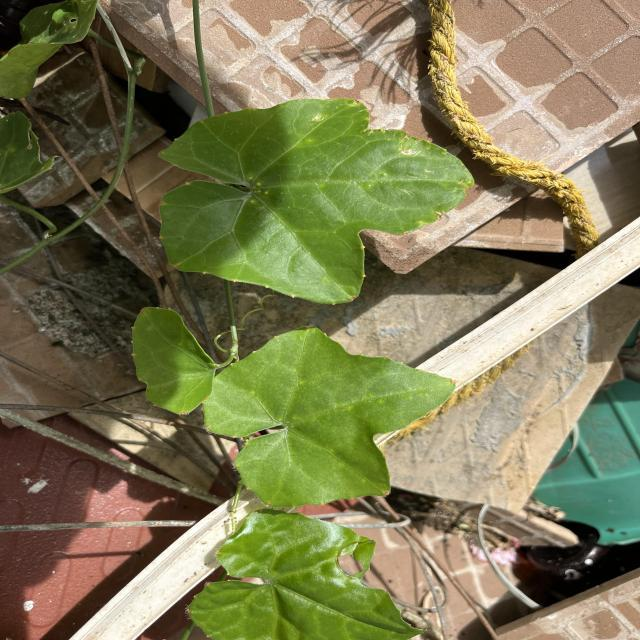Coccinia grandis: (151, 93, 481, 310), (195, 322, 464, 513)
